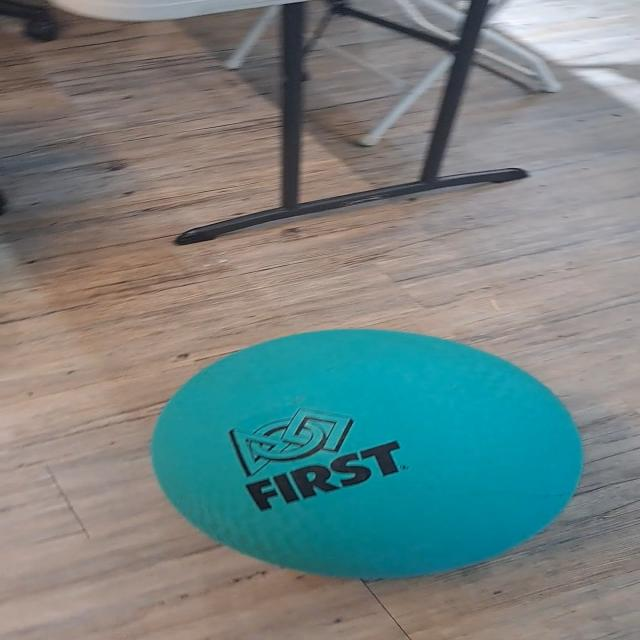ALGAE: (147, 326, 585, 581)
